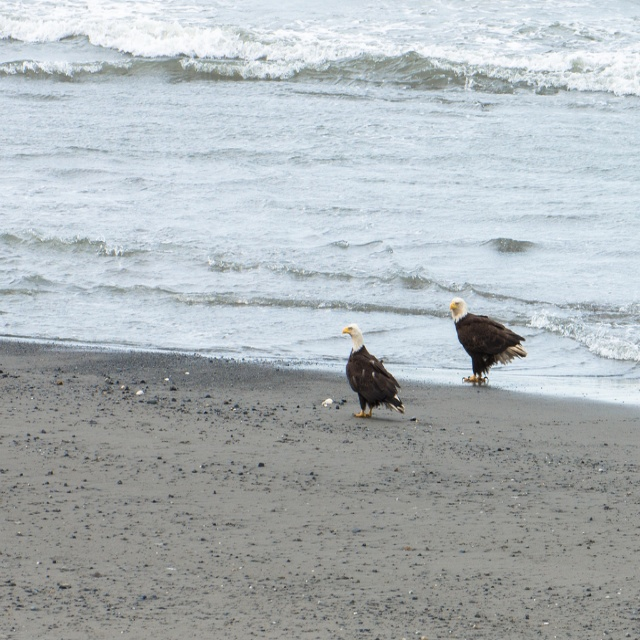Eagle: (449, 291, 529, 395), (341, 320, 407, 423)
